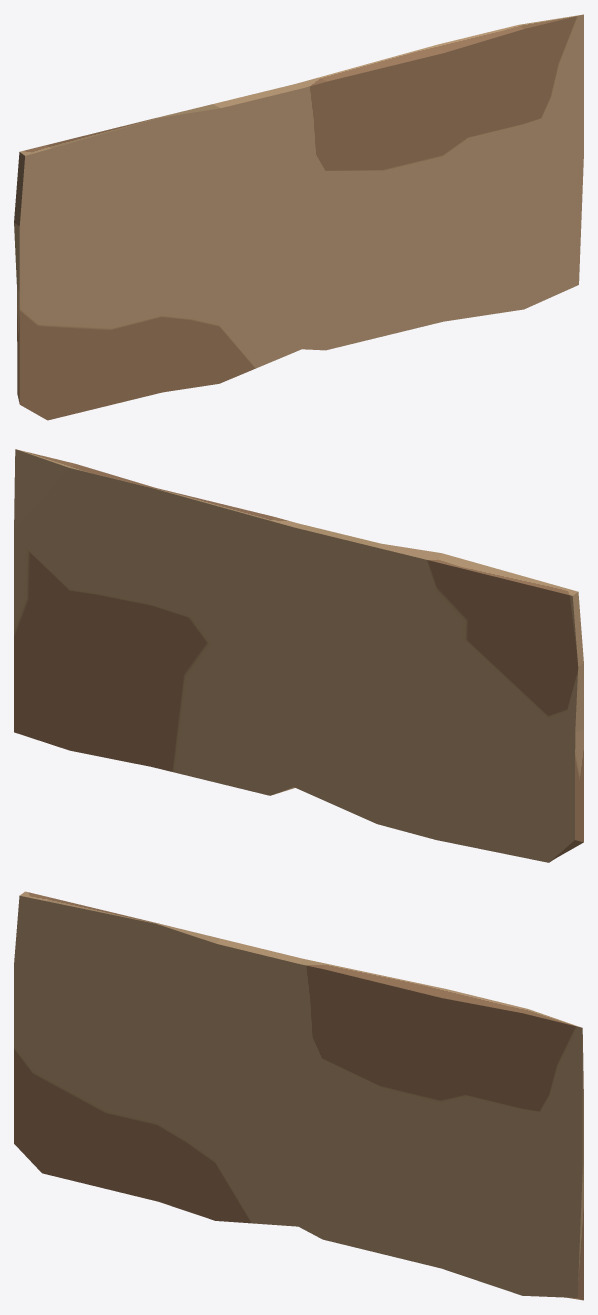
The model's file is SM_Plywood_Board_A.gltf.
The picture shows the model from 3 angles, top to bottom: view 1: azimuth 30°, elevation 25°; view 2: azimuth 150°, elevation 25°; view 3: azimuth 330°, elevation 25°; orthographic projection.
Visible parts, largest first — view 1: SM_Plywood_Board_A; view 2: SM_Plywood_Board_A; view 3: SM_Plywood_Board_A.
Part boxes in pixels (box(x1,y1,x2,y2)): SM_Plywood_Board_A: box(14, 14, 583, 420); SM_Plywood_Board_A: box(14, 449, 583, 862); SM_Plywood_Board_A: box(14, 891, 583, 1300).
Size of the model in its own units: 1.32 by 0.629 by 0.0233.
1 material, 1 textured.
